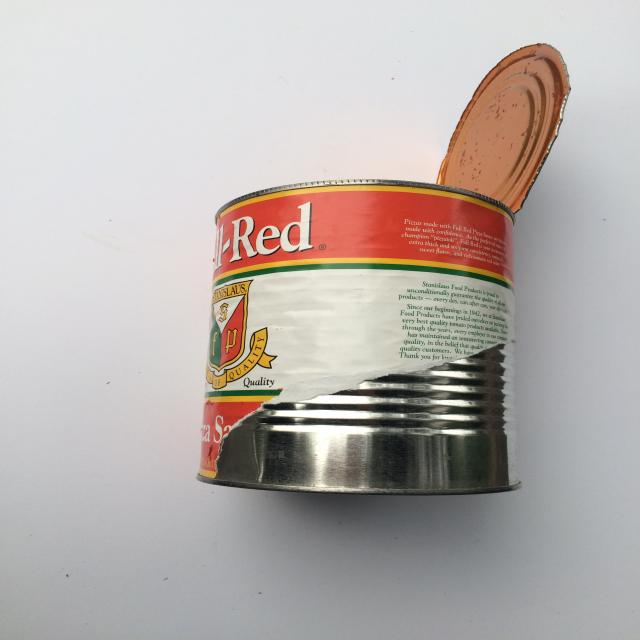metal: (196, 42, 571, 495)
